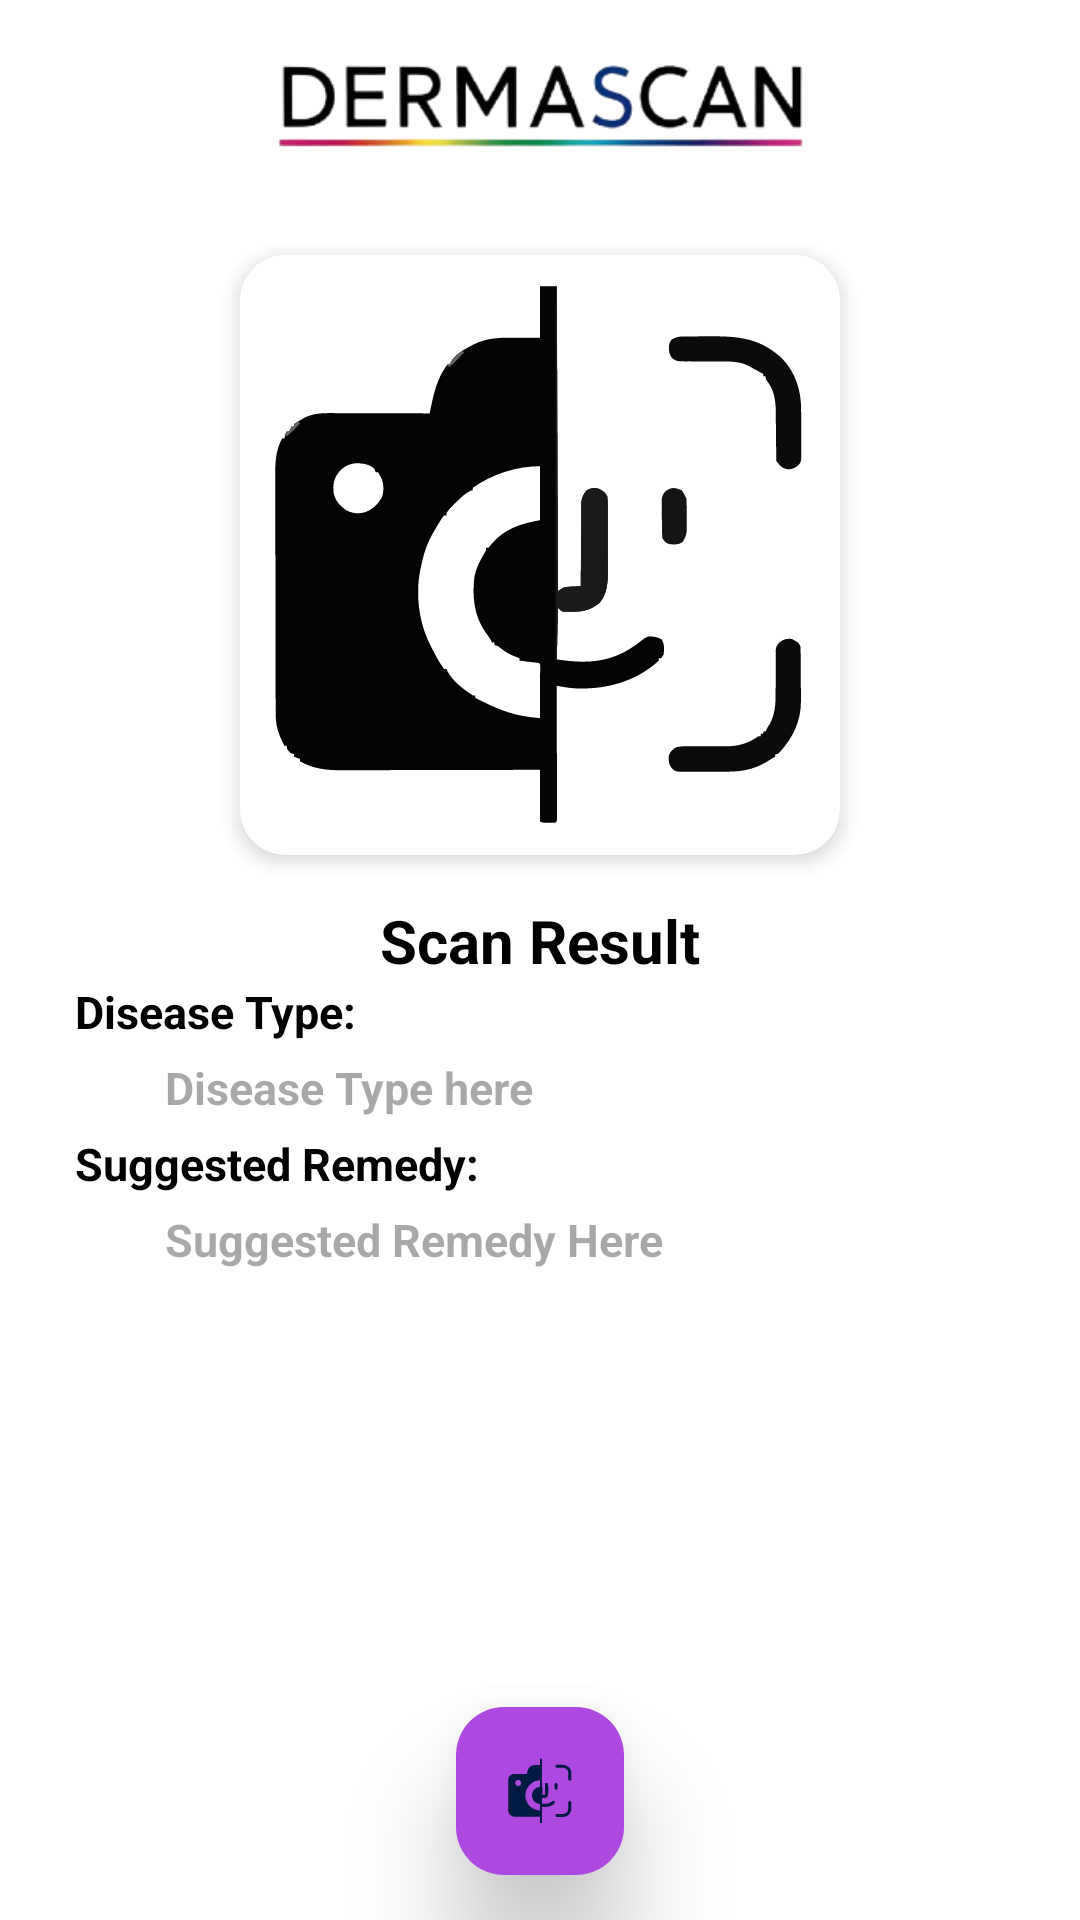

Where to tap for icons on this 1080w x 1920h app screen, as [x,y]:
scan: [540,1791]
